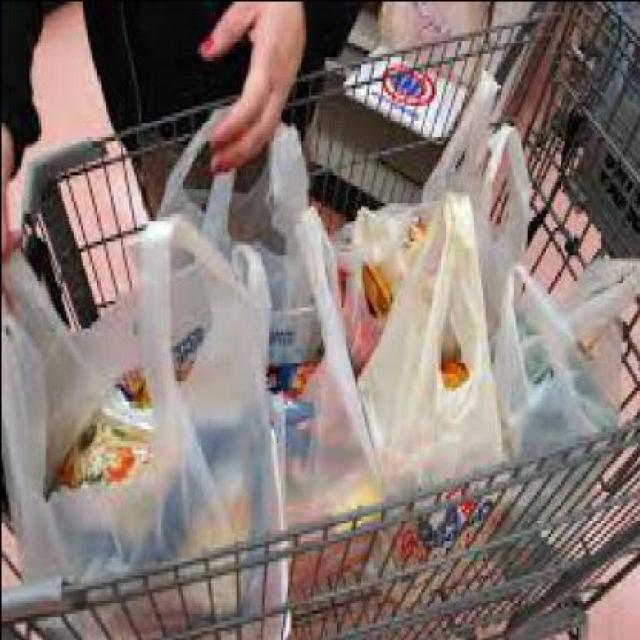plastic: (3, 209, 280, 637), (185, 206, 383, 634), (334, 190, 497, 584), (497, 254, 638, 478), (420, 66, 531, 328), (154, 108, 308, 262)
